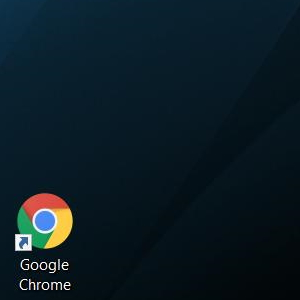chrome: (15, 192, 73, 251)
